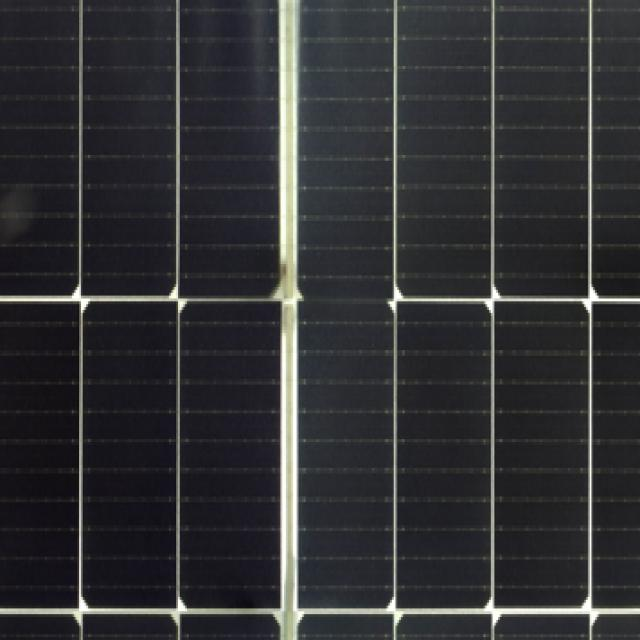CELL SHORT: (191, 288, 395, 318)
